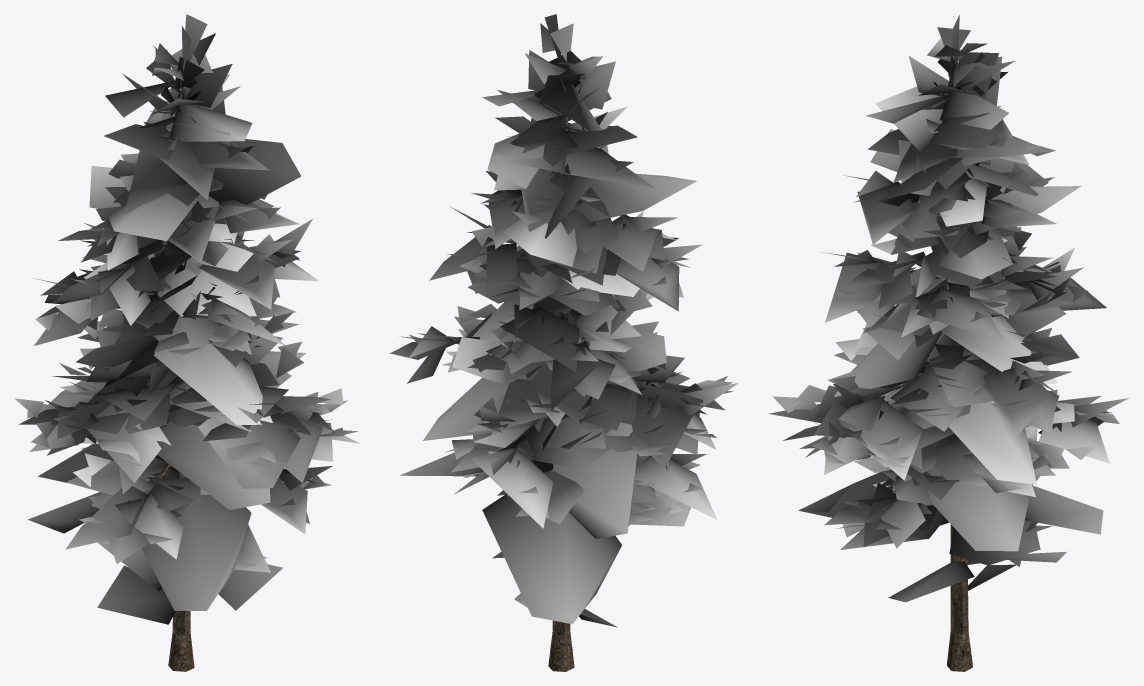
File: Fir_03.FBX
The picture shows the model from 3 angles, left to right: view 1: azimuth 30°, elevation 25°; view 2: azimuth 150°, elevation 25°; view 3: azimuth 270°, elevation 25°; orthographic projection.
Visible parts, largest first — view 1: Fir_03; view 2: Fir_03; view 3: Fir_03.
Boxes of the visible parts, left/top/right/bottom form: Fir_03: left=14, top=14, right=359, bottom=671; Fir_03: left=390, top=14, right=738, bottom=671; Fir_03: left=768, top=15, right=1129, bottom=671.
Size of the model in its own units: 563 by 1179 by 590.
